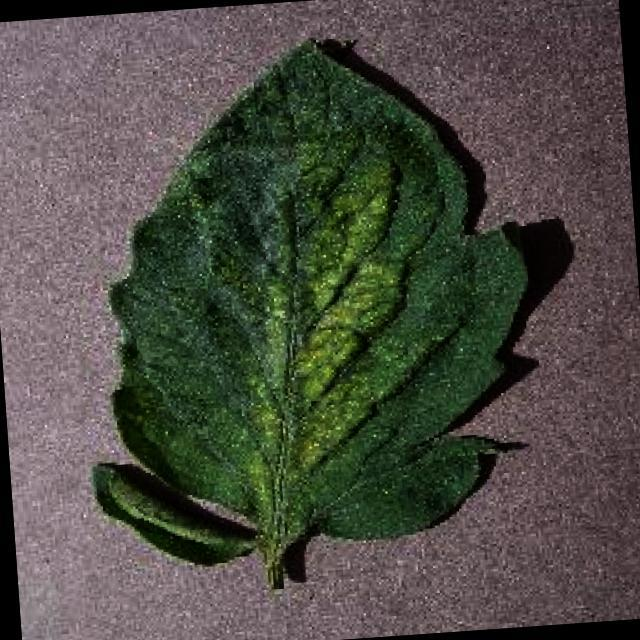Tomato spider mites leaf: (88, 24, 546, 561)
